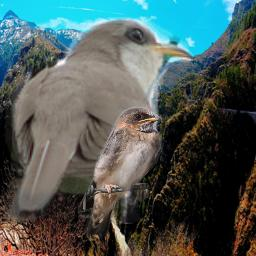Cuckoo: (4, 17, 193, 224)
Swallow: (78, 106, 162, 238)
